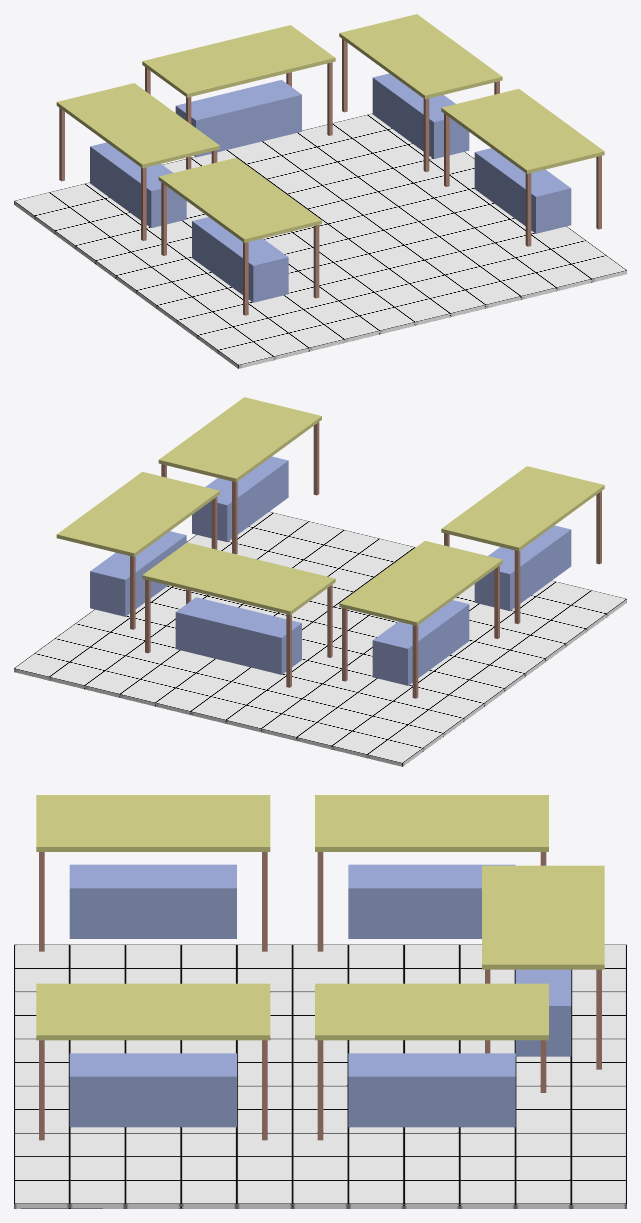
Rendered from XG_Large-Market.glb.
The picture shows the model from 3 angles, top to bottom: view 1: azimuth 30°, elevation 25°; view 2: azimuth 150°, elevation 25°; view 3: azimuth 270°, elevation 25°; orthographic projection. The views are drawn at different scales.
Parts seen in each view (by area): view 1: ground_11_x_11_016, Box619, Box625, Box631, Box613, Box637, Box614, Box620, Box632, Box608, Box626, Box623 (+2 smaller); view 2: ground_11_x_11_016, Box619, Box625, Box637, Box631, Box613, Box614, Box626, Box632, Box620, Box608, Box630 (+1 smaller); view 3: ground_11_x_11_016, Box625, Box613, Box637, Box631, Box619, Box608, Box620, Box632, Box626, Box614, Box609 (+6 smaller).
Part boxes in pixels (x1,y1,x2,y2): ground_11_x_11_016: (14,113,626,368); Box619: (142,25,335,97); Box625: (441,89,604,173); Box631: (56,83,219,168); Box613: (339,14,502,99); Box637: (158,157,321,242); Box614: (175,80,301,157); Box620: (474,148,571,233); Box632: (192,217,288,302); Box608: (372,73,469,158); Box626: (90,142,186,227); Box623: (525,173,531,246); ground_11_x_11_016: (14,511,626,766); Box619: (142,542,335,614); Box625: (158,397,321,482); Box637: (441,466,604,551); Box631: (339,541,502,625); Box613: (56,472,219,556); Box614: (175,597,301,674); Box626: (372,600,469,685); Box632: (474,525,571,610); Box620: (192,456,288,542); Box608: (90,531,186,616); Box630: (412,625,418,698); ground_11_x_11_016: (14,944,626,1208); Box625: (36,983,270,1040); Box613: (315,983,548,1040); Box637: (36,795,270,851); Box631: (315,795,548,851); Box619: (482,865,604,969); Box608: (348,1053,515,1127); Box620: (69,1053,236,1127); Box632: (69,864,236,938); Box626: (348,864,515,938); Box614: (515,969,571,1056); Box609: (317,1040,323,1140).
Bounding box in the file's own units: 11 × 3.25 × 11.
4 materials, 1 textured.
